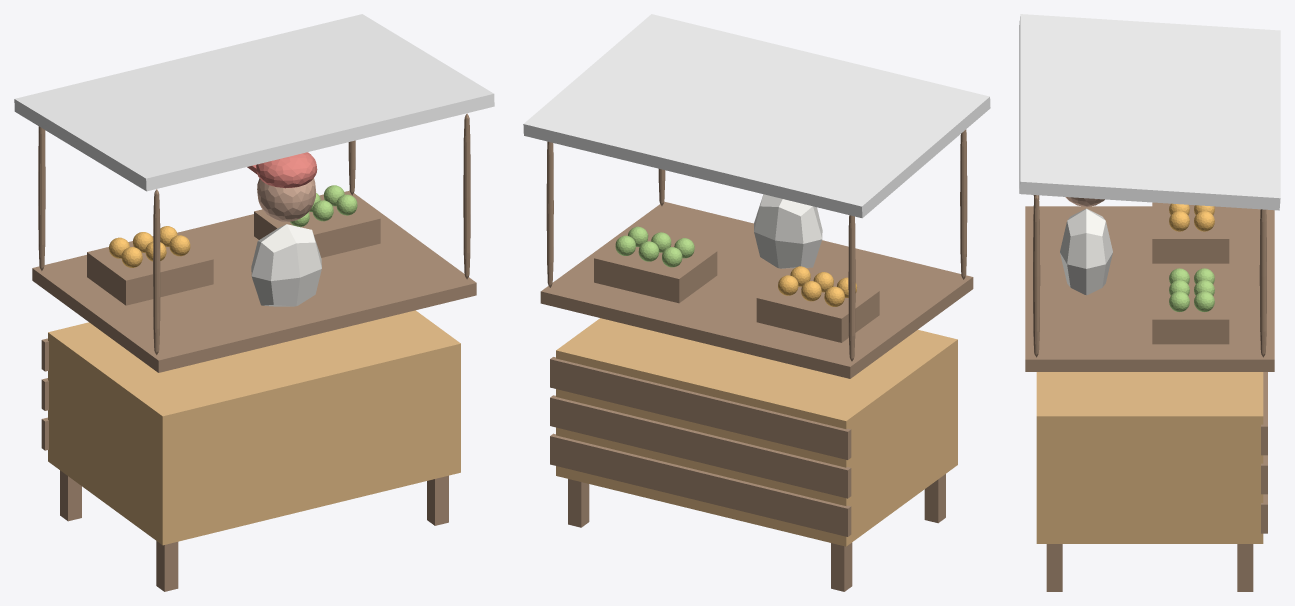
File: barraca.glb
3 views of the same model, side by side, from view 1: azimuth 30°, elevation 25°; view 2: azimuth 150°, elevation 25°; view 3: azimuth 270°, elevation 25° (orthographic). The views are drawn at different scales.
Visible parts, largest first — view 1: BarracaMercado; view 2: BarracaMercado; view 3: BarracaMercado.
Part boxes in pixels (<box>): BarracaMercado: <box>14,14,494,591</box>; BarracaMercado: <box>523,14,990,591</box>; BarracaMercado: <box>1019,14,1280,591</box>.
Bounding box in the file's own units: 1.75 × 2.07 × 1.15.
